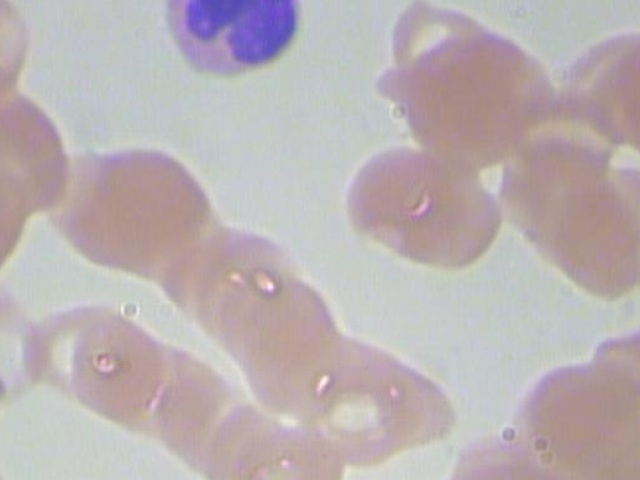WBC: (154, 0, 313, 87)
